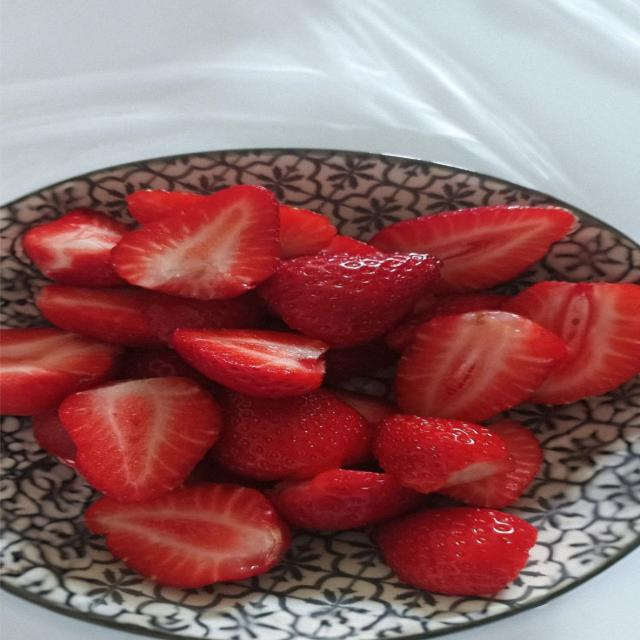strawberry sliced: (86, 485, 290, 588), (59, 378, 219, 501), (112, 185, 279, 299), (396, 311, 566, 422), (372, 206, 574, 292), (261, 254, 439, 348), (506, 282, 639, 404), (213, 389, 370, 480), (376, 507, 536, 595), (37, 285, 259, 345), (374, 415, 513, 493), (173, 329, 327, 397), (0, 328, 120, 415), (267, 470, 422, 530), (440, 421, 542, 508), (23, 208, 128, 286), (36, 285, 160, 345), (386, 293, 509, 350), (145, 293, 262, 342), (118, 347, 213, 387), (332, 389, 400, 441), (325, 340, 398, 384), (279, 206, 337, 258), (126, 190, 205, 224), (333, 389, 399, 429), (127, 191, 206, 224), (32, 410, 76, 467), (434, 293, 510, 316), (322, 235, 382, 255)
